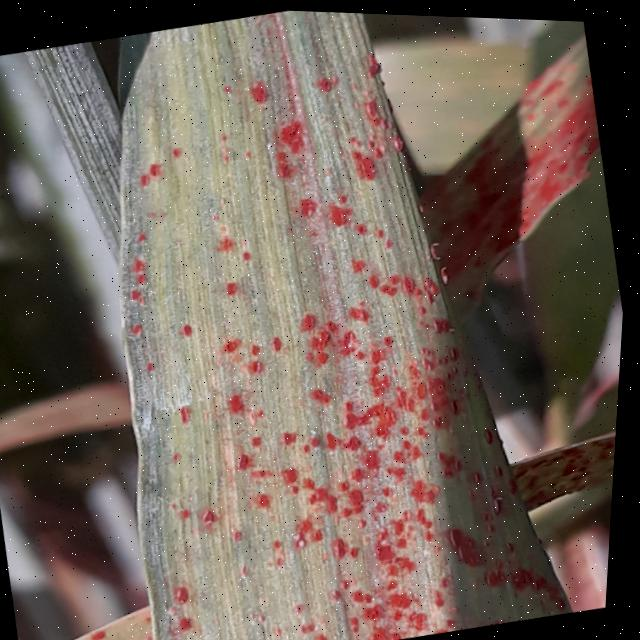orang_rust: (28, 2, 621, 640), (388, 12, 636, 324), (510, 406, 622, 520), (23, 596, 173, 640)
